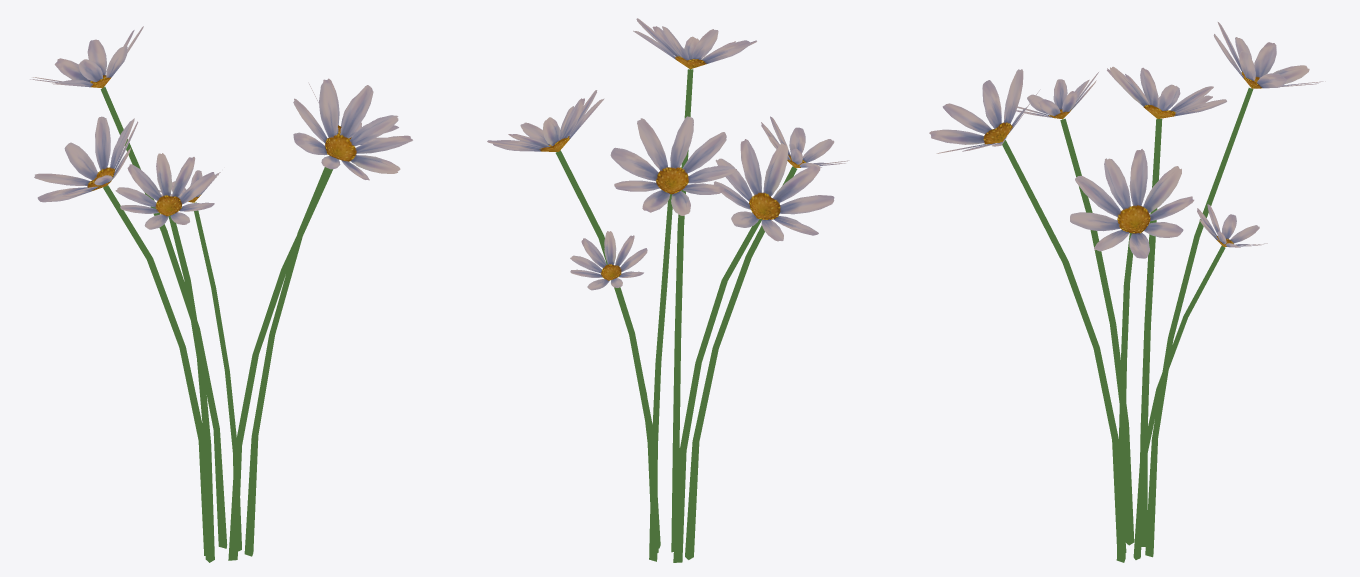
The model's file is SM_Flower_05_02.fbx.
The picture shows the model from 3 angles, left to right: view 1: azimuth 30°, elevation 25°; view 2: azimuth 150°, elevation 25°; view 3: azimuth 270°, elevation 25°; orthographic projection. The views are drawn at different scales.
Visible parts, largest first — view 1: SM_Flower_05_02_LOD0; view 2: SM_Flower_05_02_LOD0; view 3: SM_Flower_05_02_LOD0.
Boxes of the visible parts, x1,y1,x2,y2 form: SM_Flower_05_02_LOD0: (30, 26, 412, 562); SM_Flower_05_02_LOD0: (487, 18, 849, 562); SM_Flower_05_02_LOD0: (929, 22, 1325, 562).
Size of what is drawn, in the model's own units: 52.26 by 64.75 by 51.21.
